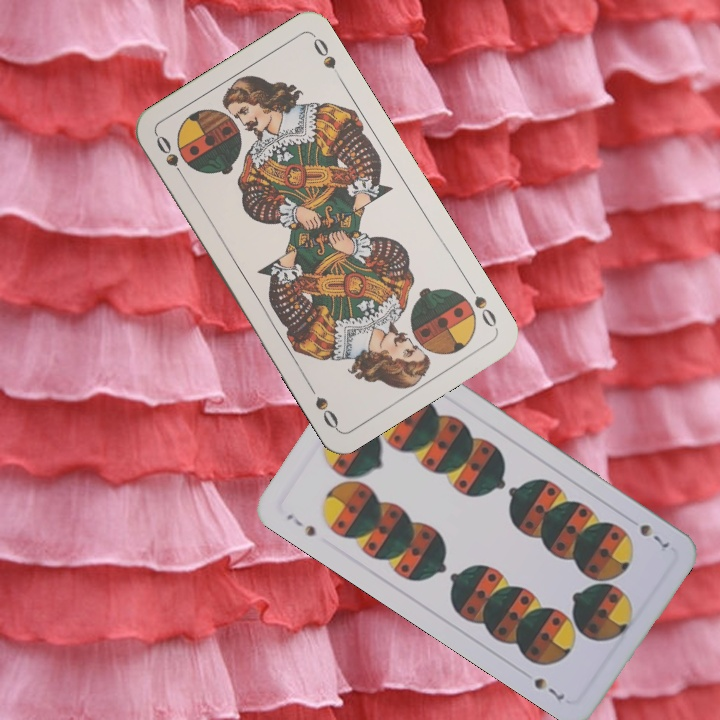S7: (635, 520, 675, 555), (282, 509, 319, 539)
SO: (152, 131, 189, 184), (463, 278, 500, 330)
